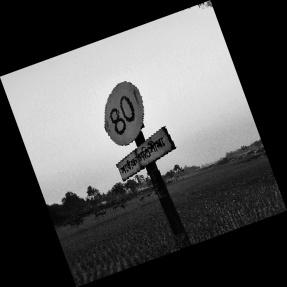Speed-limit: (104, 81, 177, 181)
